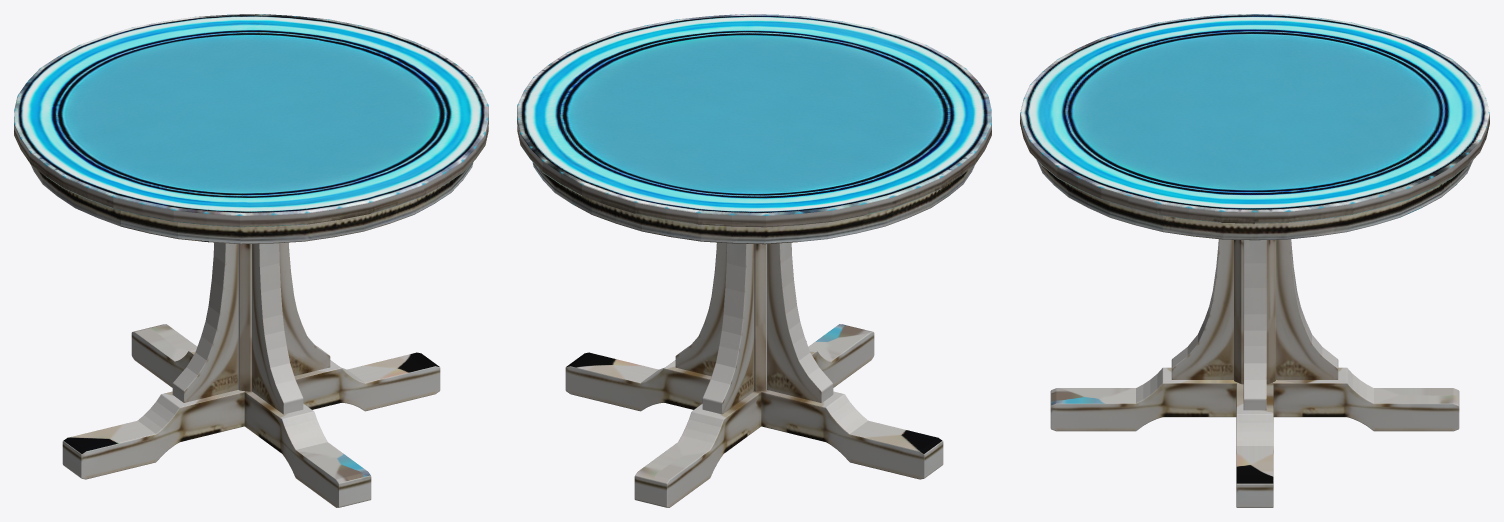
File: edited_mesh.glb
The picture shows the model from 3 angles, left to right: view 1: azimuth 30°, elevation 25°; view 2: azimuth 150°, elevation 25°; view 3: azimuth 270°, elevation 25°; orthographic projection.
Visible parts, largest first — view 1: normalized_model.obj; view 2: normalized_model.obj; view 3: normalized_model.obj.
Boxes of the visible parts, x1=… form: normalized_model.obj: x1=14, y1=14, x2=488, y2=507; normalized_model.obj: x1=517, y1=14, x2=991, y2=507; normalized_model.obj: x1=1020, y1=14, x2=1489, y2=507.
Size of the model in its own units: 1.62 by 1.19 by 1.62.
Materials: 1 (1 with a texture image).
